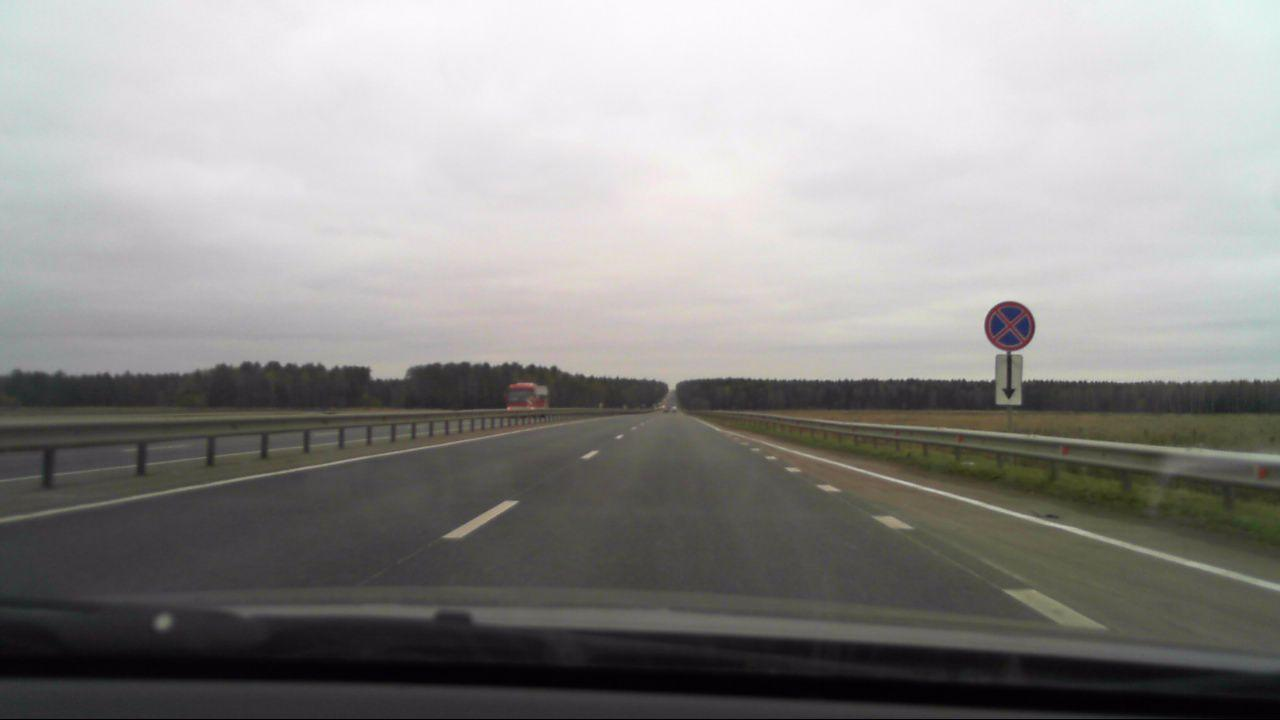3_27: (983, 298, 1033, 350)
8_2_3: (993, 353, 1024, 405)
